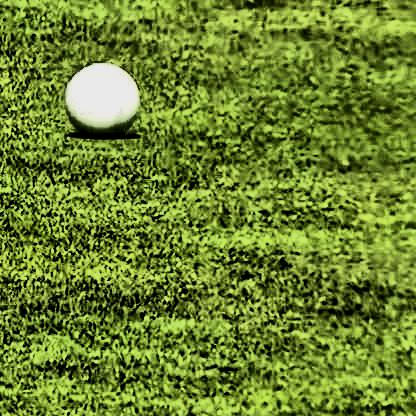golfball: (66, 71, 131, 130)
